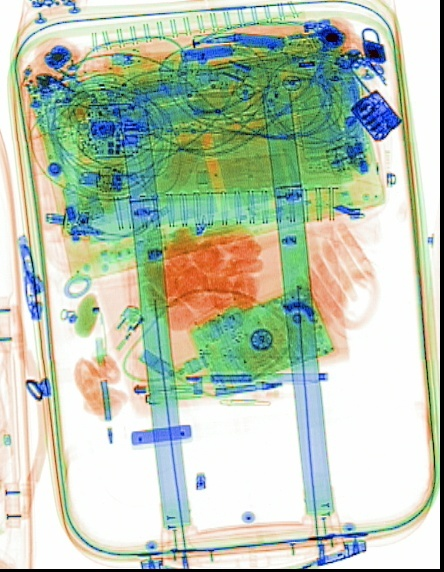lighter: (96, 303, 145, 378)
